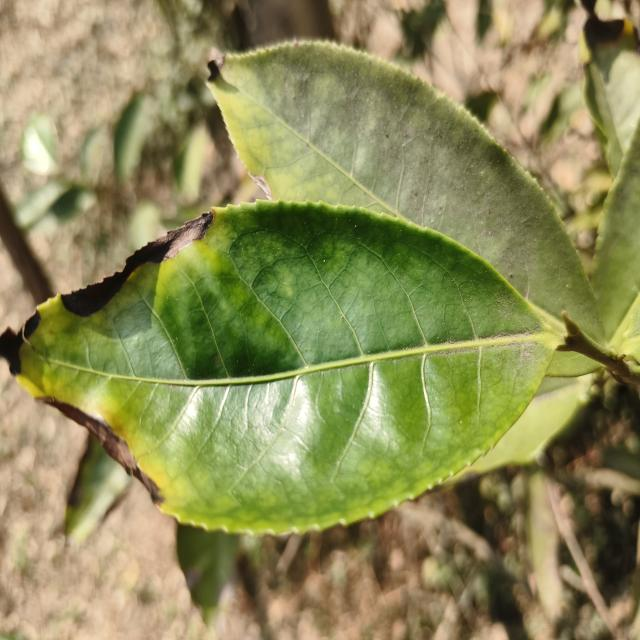Leaf: (0, 201, 562, 533), (210, 41, 602, 340), (591, 120, 640, 363), (585, 18, 640, 176), (65, 435, 132, 544), (177, 524, 238, 621), (114, 93, 151, 182), (175, 124, 211, 201), (22, 115, 57, 175)
